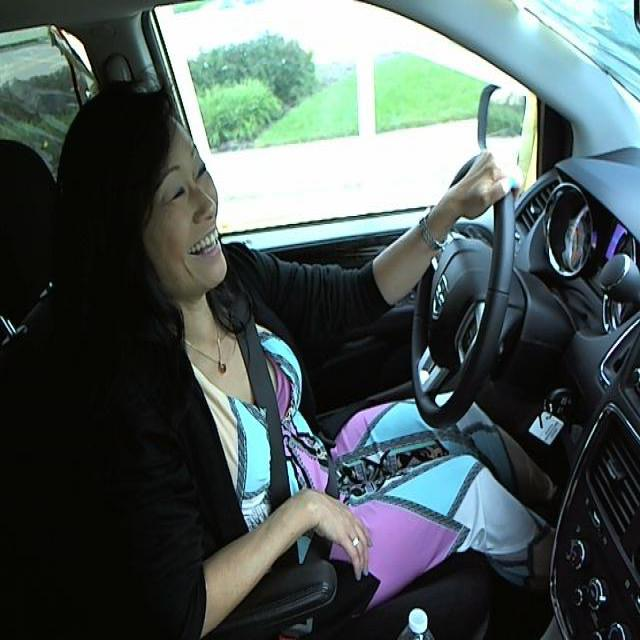seatbelt: (231, 297, 343, 500)
